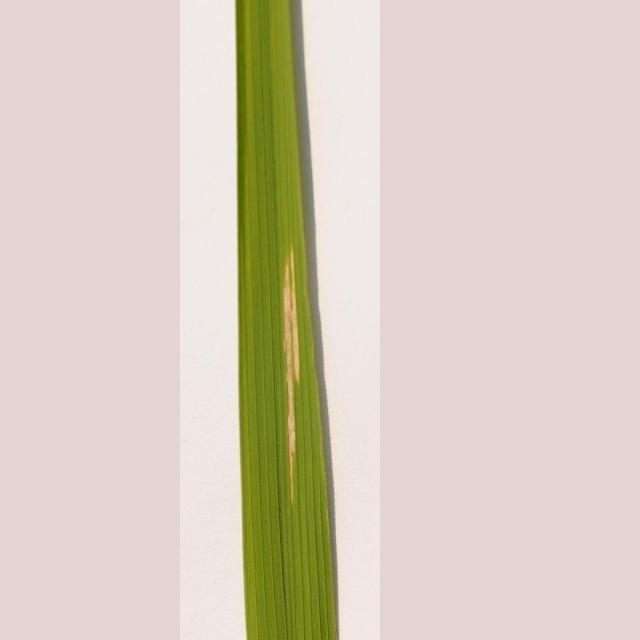Bacterial_Leaf_Blight: (251, 219, 325, 464)
